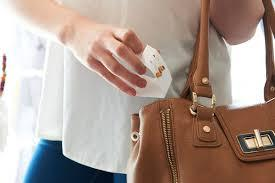shoplifting: (36, 0, 274, 183)
